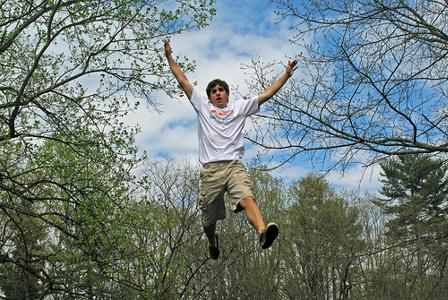person: (161, 41, 299, 261)
